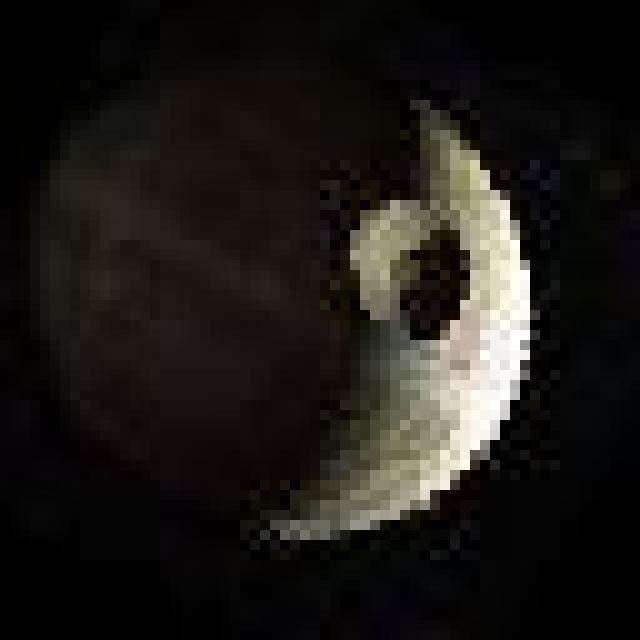Death Star: (45, 34, 540, 550)
